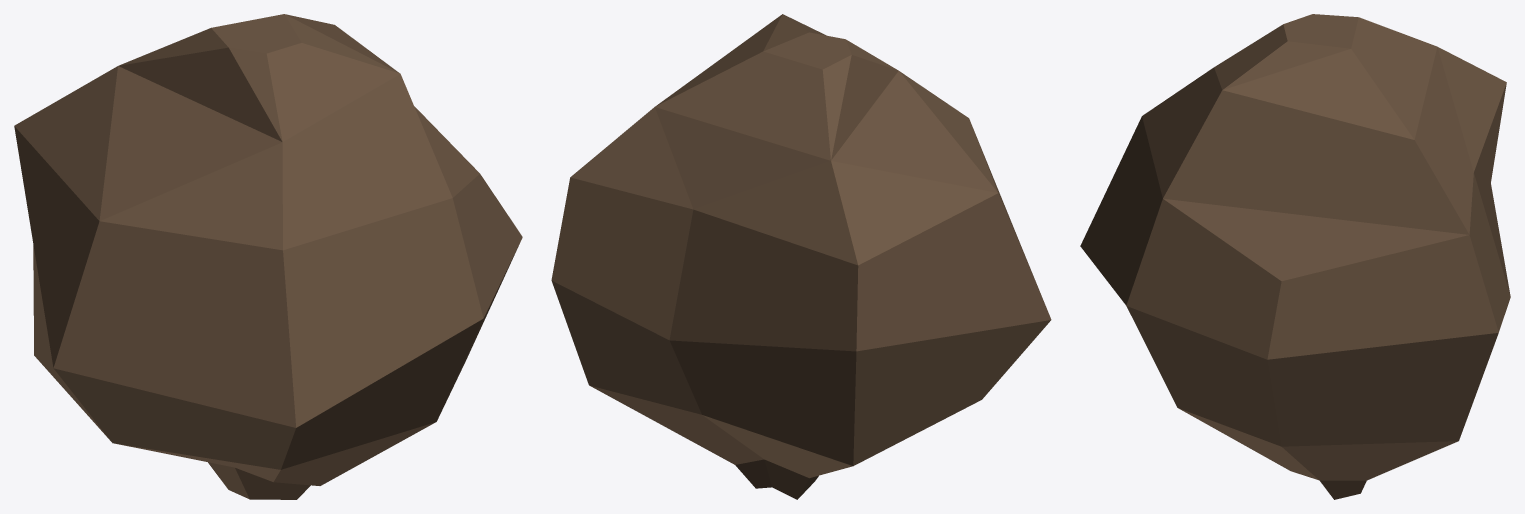
File: rock.fbx
The picture shows the model from 3 angles, left to right: view 1: azimuth 30°, elevation 25°; view 2: azimuth 150°, elevation 25°; view 3: azimuth 270°, elevation 25°; orthographic projection. The views are drawn at different scales.
Parts seen in each view (by area): view 1: Rock; view 2: Rock; view 3: Rock.
Boxes of the visible parts, x1,y1,x2,y2 form: Rock: (14, 14, 522, 499); Rock: (551, 14, 1051, 499); Rock: (1080, 14, 1510, 499).
Size of the model in its own units: 217 by 213 by 185.
